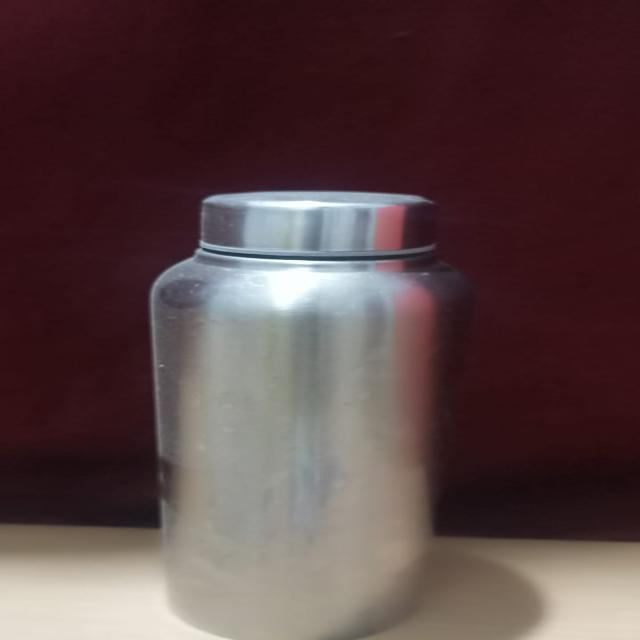bottle: (131, 175, 481, 640)
